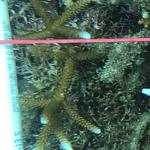alive: (5, 1, 147, 147)
